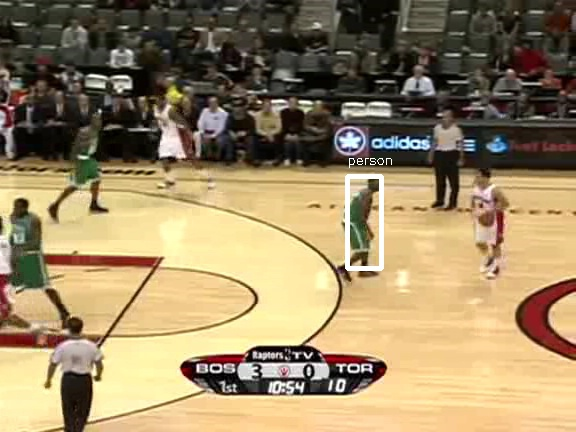person: (343, 178, 377, 259), (342, 178, 376, 259), (344, 178, 378, 259), (343, 177, 377, 258), (343, 179, 377, 260)
target_negative: (94, 96, 576, 274), (94, 83, 391, 359), (420, 45, 516, 318), (519, 51, 572, 419), (503, 172, 574, 354), (24, 320, 266, 369)
